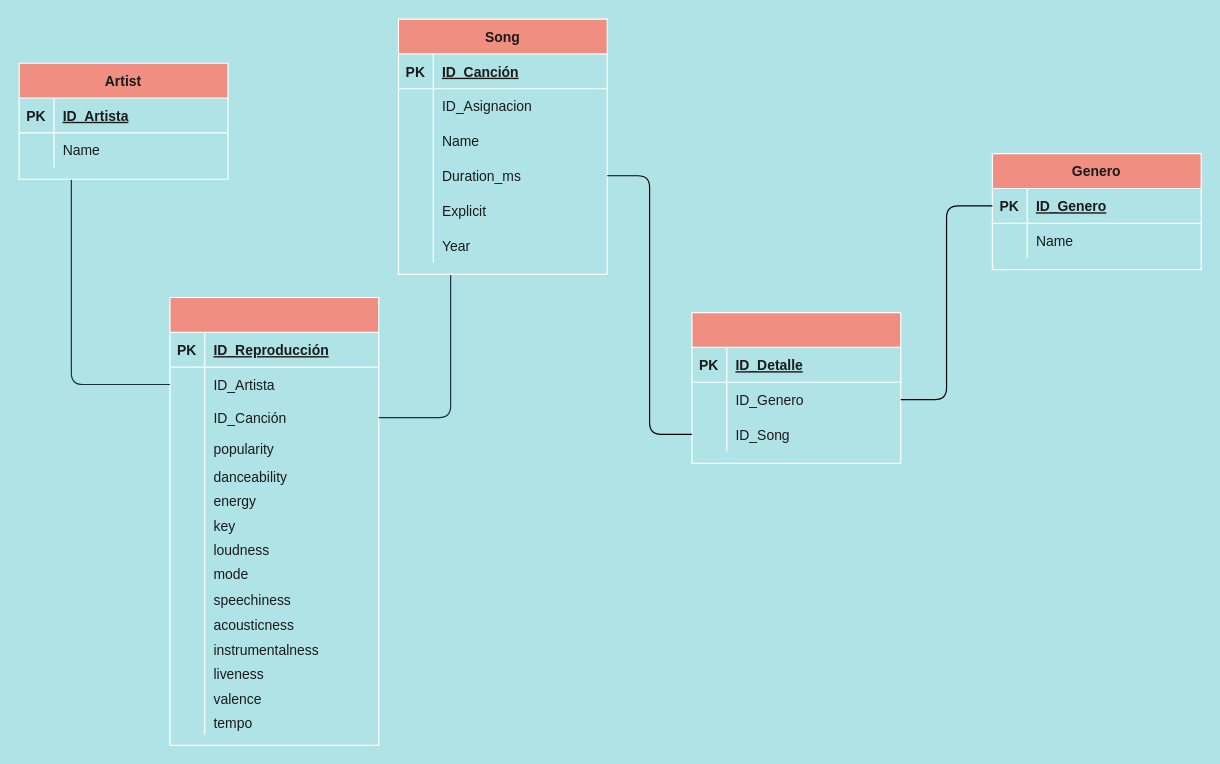
This 1220x764 diagram has some shape labels left out. Here are the shapes that lost their labels. From the top down, the box of each, then its label:
(691, 311, 901, 463): Detalle_Asignacion
(169, 296, 379, 745): factHechos_ Reproduccion
